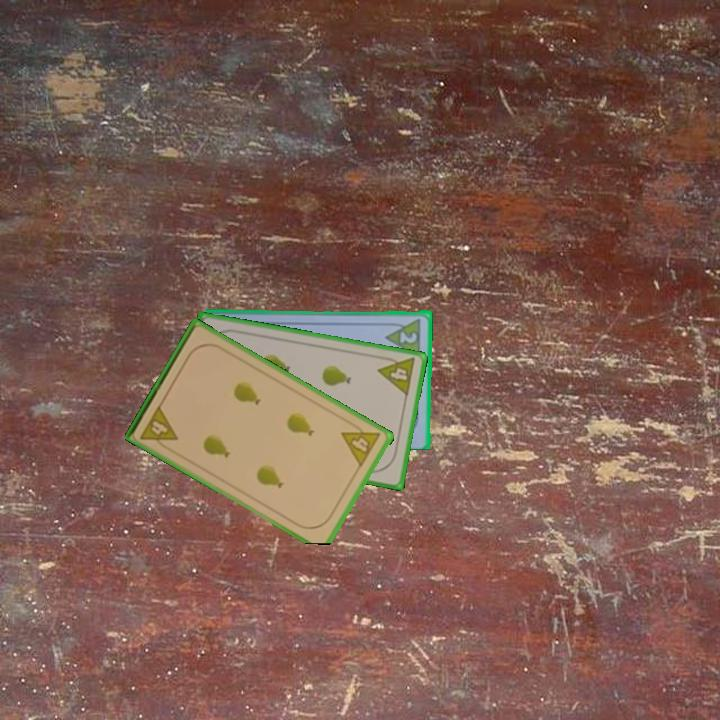2p: (383, 315, 423, 358)
4p: (338, 417, 383, 470), (136, 401, 181, 454), (375, 352, 418, 399)
